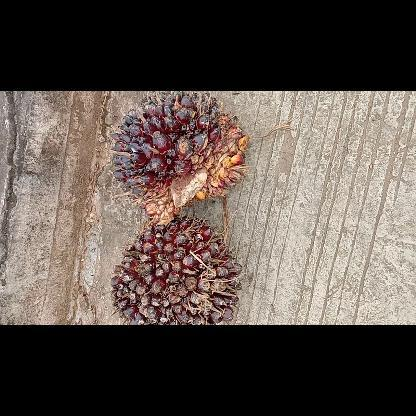TBS mentah: (106, 91, 254, 229), (108, 214, 246, 324)
